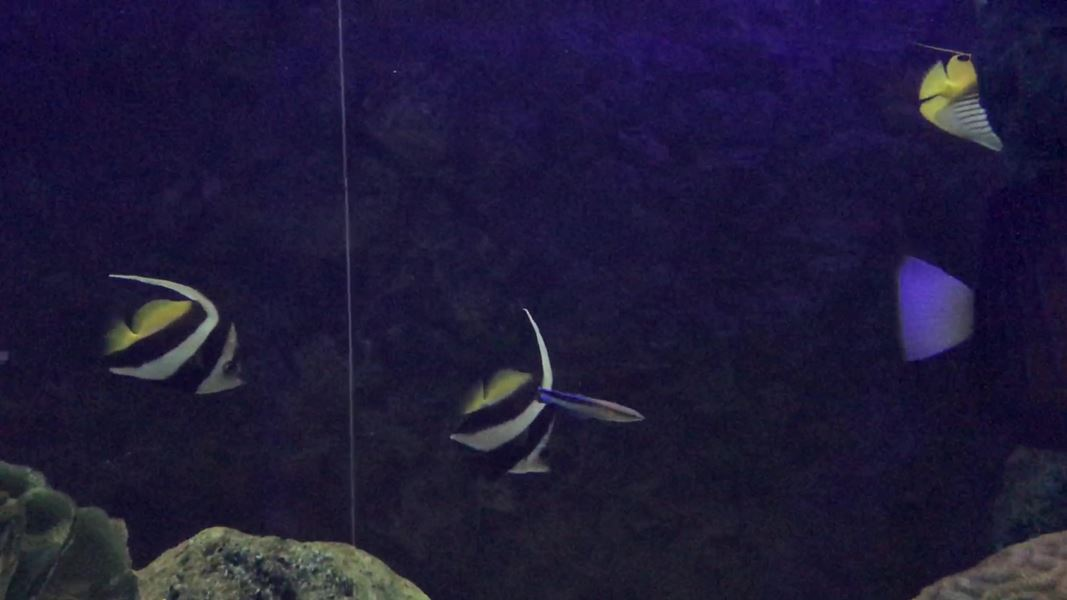Bluesteak cleaner wrasse: (524, 377, 653, 431)
